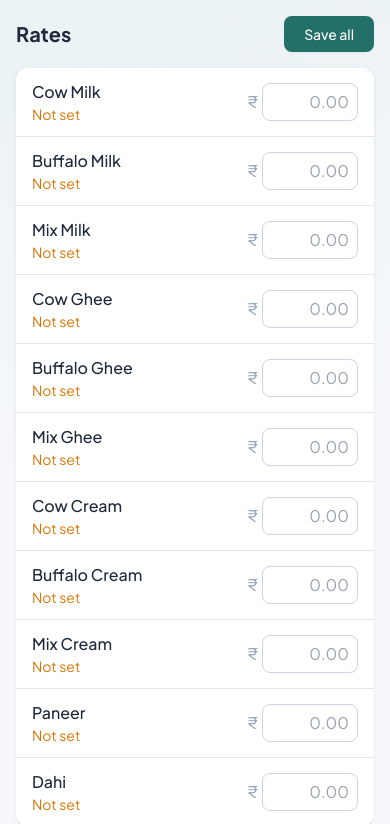
Test: RateConfigPage (Requirements 3.5, 3.6) › shows a validation message when setRate rejects
In the field named "Paneer rate": (310, 723) [262,704,358,742], type "0"
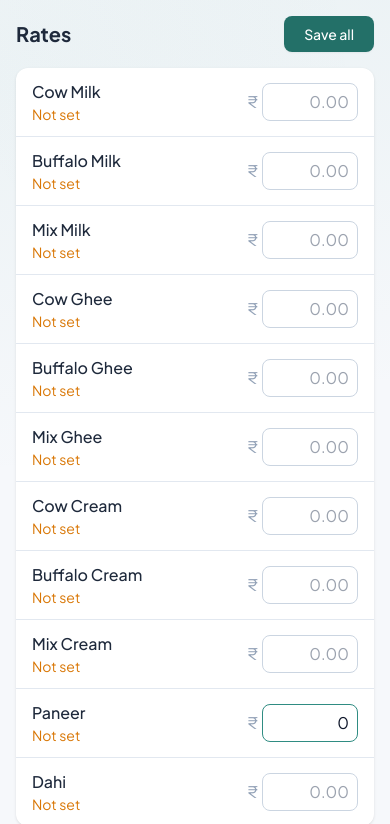
Click the button "Save all": (329, 34) [284,16,374,52]
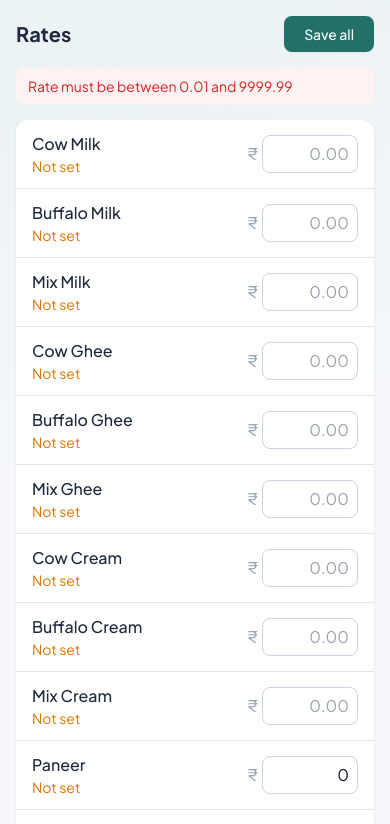
Result: the text "Rate must be between 0.01 and 9999.99" is shown at [16,68,374,104]
